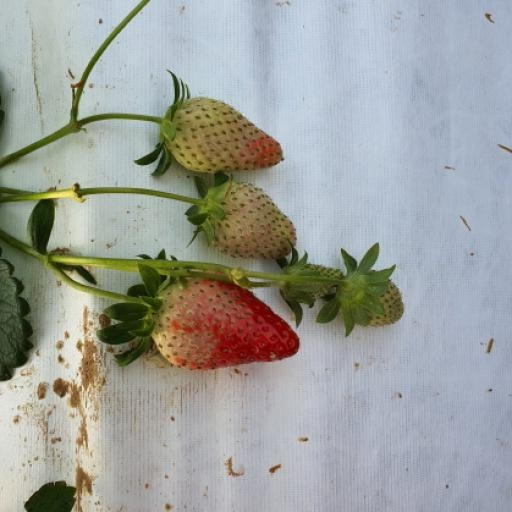Powdery Mildew Fruit: (211, 277, 363, 371)
